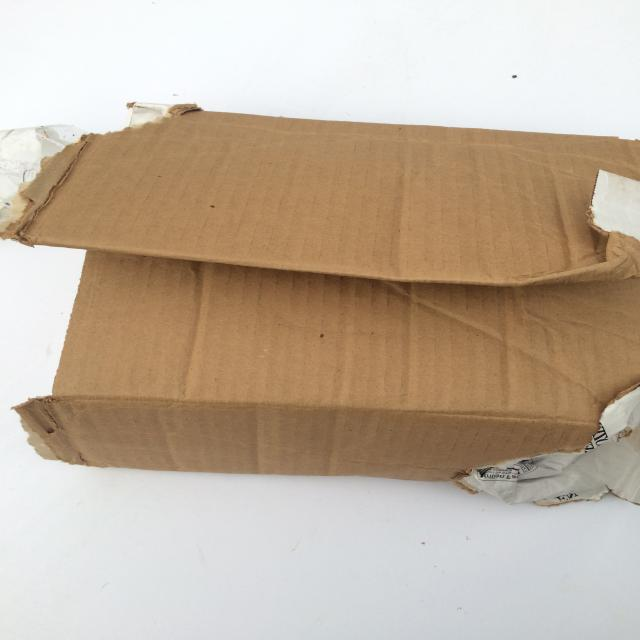cardboard: (0, 99, 640, 514)
